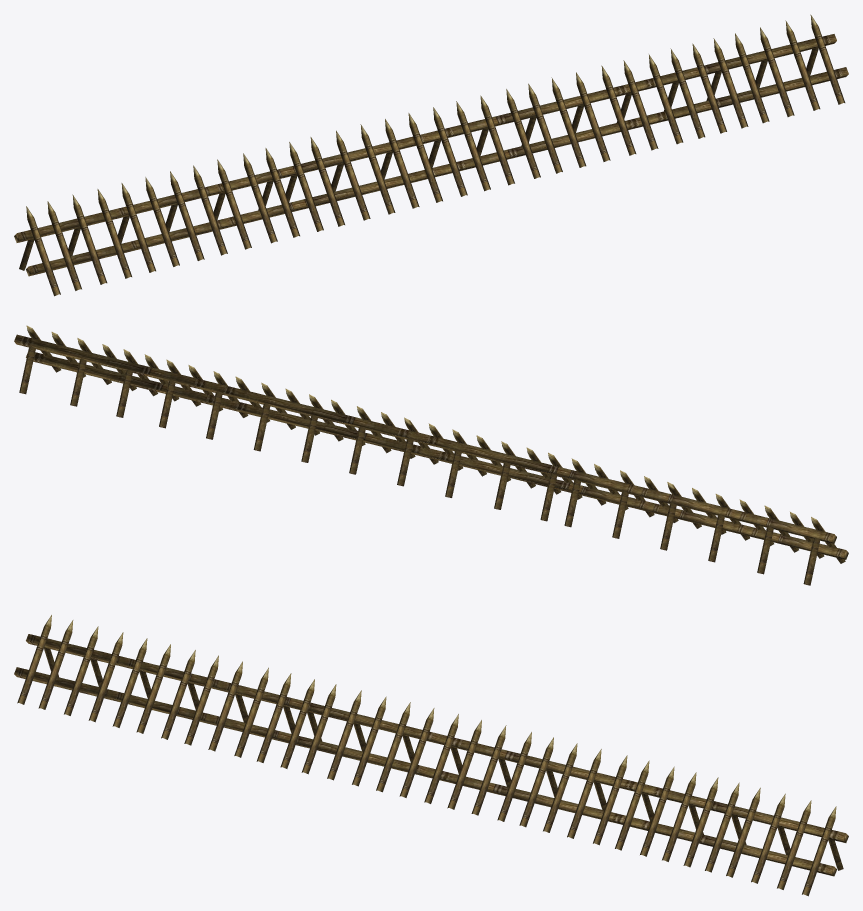
File: bagh_barricade04.glb
The picture shows the model from 3 angles, top to bottom: view 1: azimuth 30°, elevation 25°; view 2: azimuth 150°, elevation 25°; view 3: azimuth 330°, elevation 25°; orthographic projection.
Visible parts, largest first — view 1: res\bldg\arabia\bagh_city\event\bagh_barricade04.bsr; view 2: res\bldg\arabia\bagh_city\event\bagh_barricade04.bsr; view 3: res\bldg\arabia\bagh_city\event\bagh_barricade04.bsr.
Boxes of the visible parts, <box> form: res\bldg\arabia\bagh_city\event\bagh_barricade04.bsr: <box>14,14,848,296</box>; res\bldg\arabia\bagh_city\event\bagh_barricade04.bsr: <box>14,325,848,585</box>; res\bldg\arabia\bagh_city\event\bagh_barricade04.bsr: <box>14,615,848,896</box>.
Size of the model in its own units: 164 by 13.28 by 13.4.
Materials: 1 (1 with a texture image).
